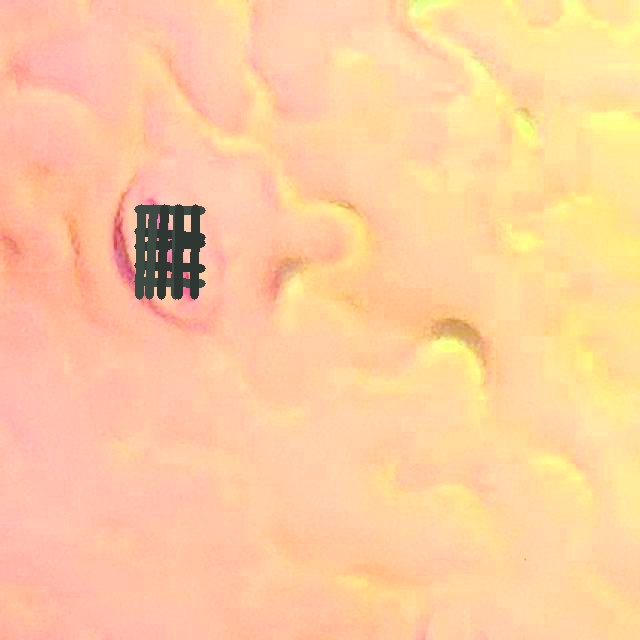open: (134, 204, 205, 299)
